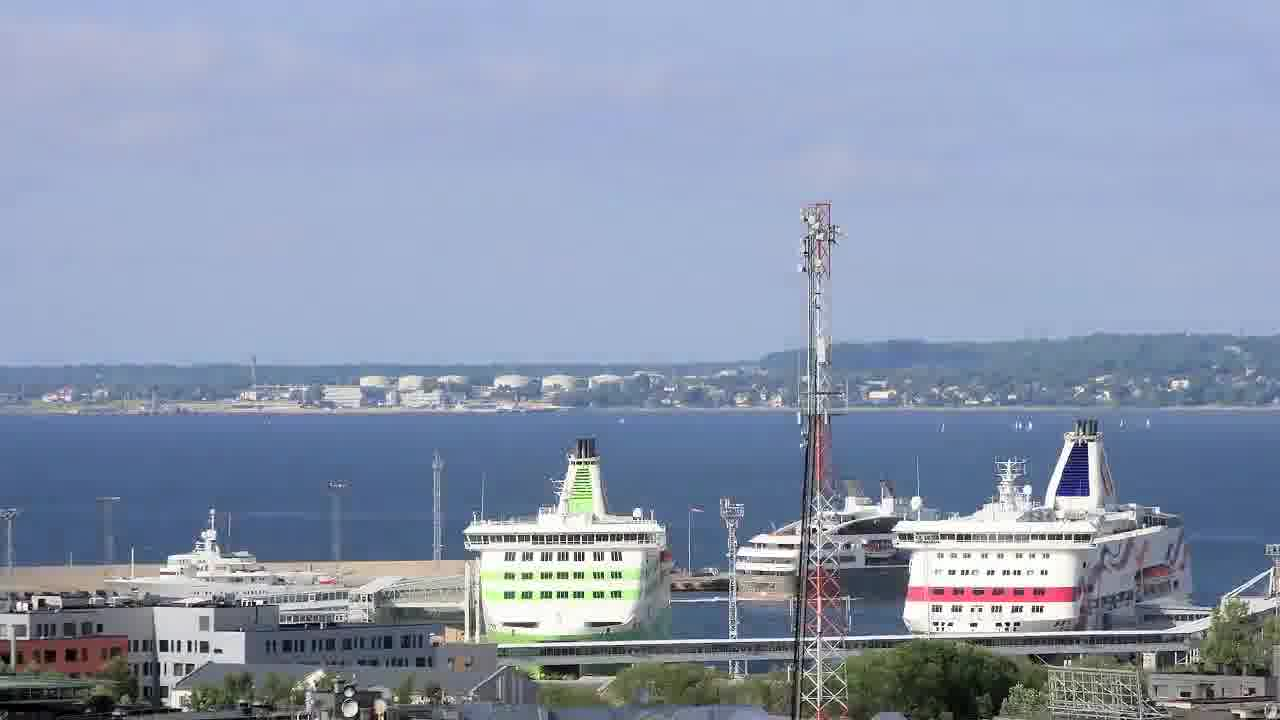type-3: (868, 415, 1225, 638), (436, 434, 694, 670), (97, 504, 334, 612), (721, 489, 912, 607)
